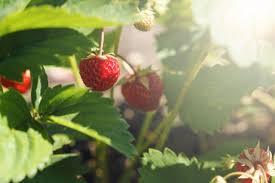ripe: (74, 40, 127, 95), (120, 63, 169, 115), (226, 140, 274, 182)
unripe: (2, 63, 33, 99)
